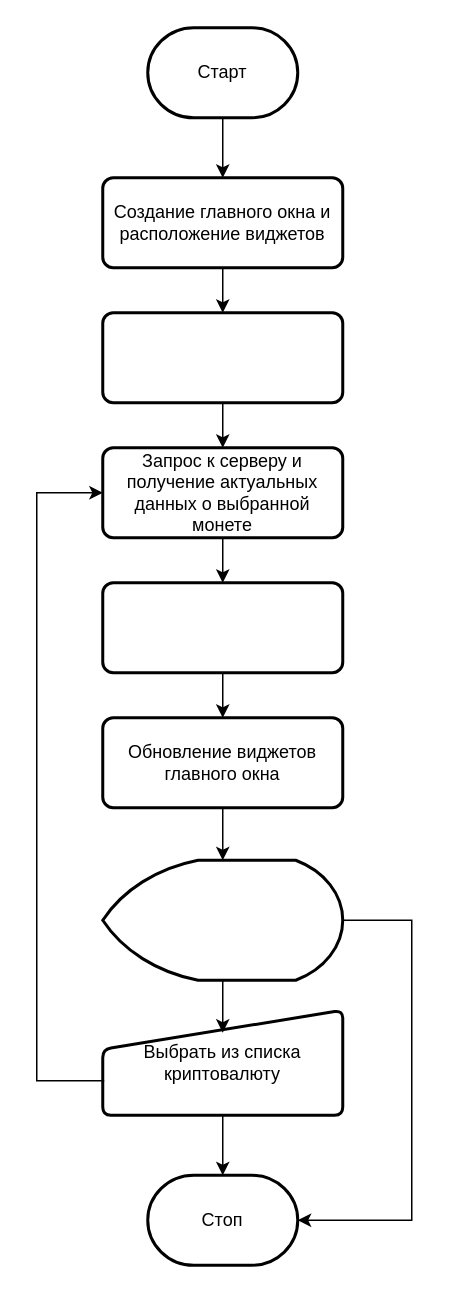
Image size: 450x1292. Some labels were removed from this diagram. The shapes that lost their labels are listed below. From the top down, each one's box as (x1, y1, x2, y2) in pixels, then its label:
(100, 310, 344, 404): Выбор криптовалюты по умолчанию
(100, 580, 344, 674): Запрос к серверу и получение изображения монеты
(100, 858, 344, 981): Отображение информации о криптовалюте
